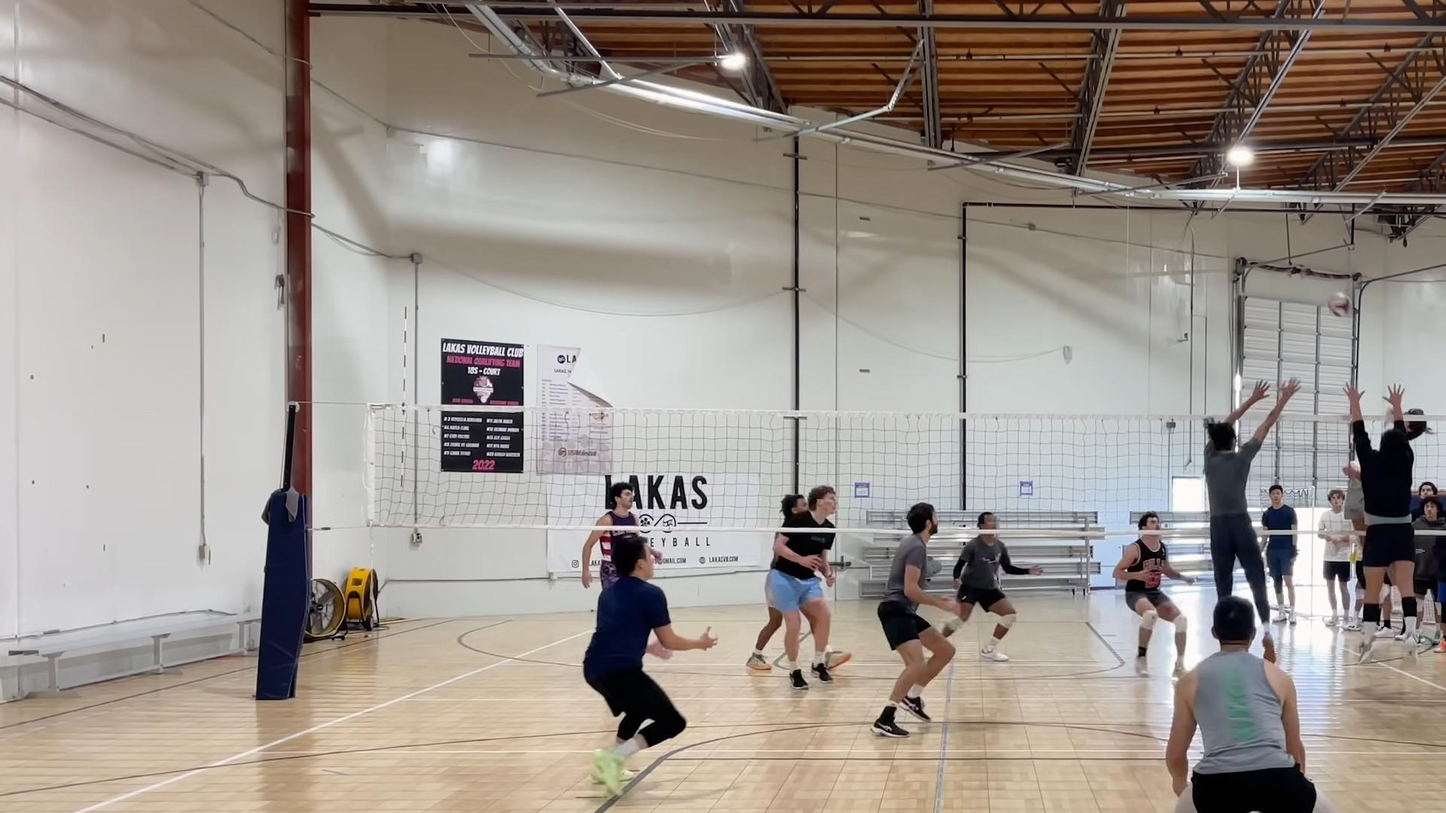Attack: (1329, 424, 1368, 568)
Block: (1201, 369, 1298, 662), (1337, 377, 1428, 658)
Dig: (582, 538, 741, 799)
Player: (1166, 596, 1334, 812), (1203, 379, 1299, 661), (871, 504, 954, 737), (941, 513, 1042, 660), (769, 486, 836, 689), (1113, 512, 1194, 675), (746, 577, 782, 671), (581, 531, 618, 589)
ball: (1328, 289, 1351, 317)
